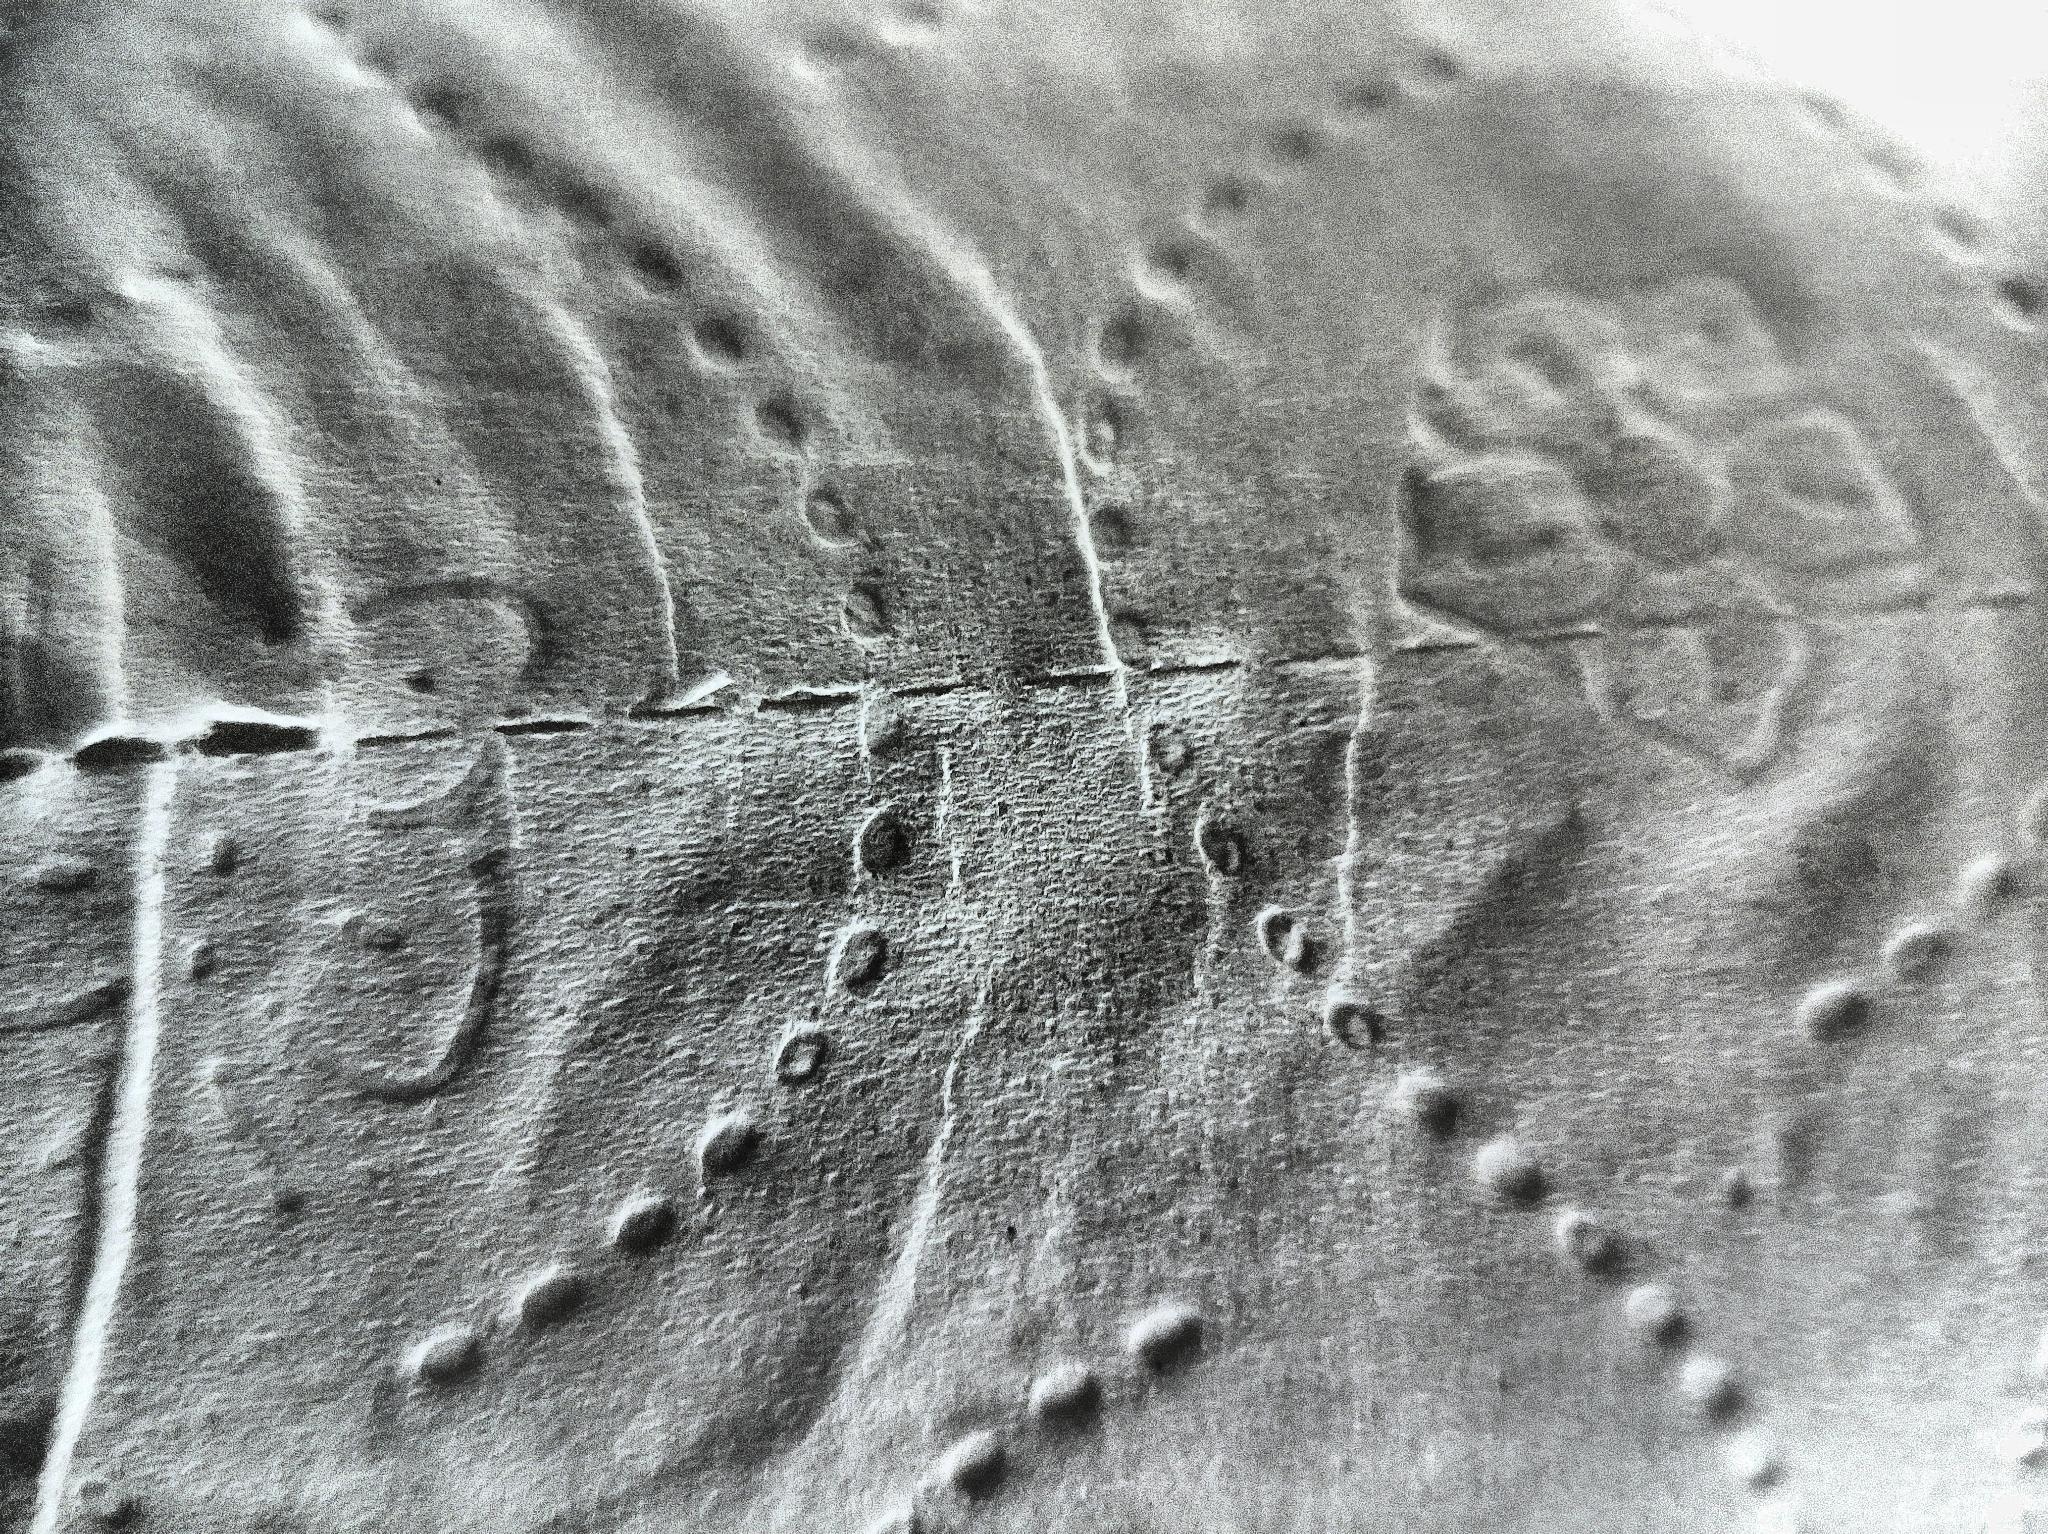seam: (5, 651, 1226, 811)
